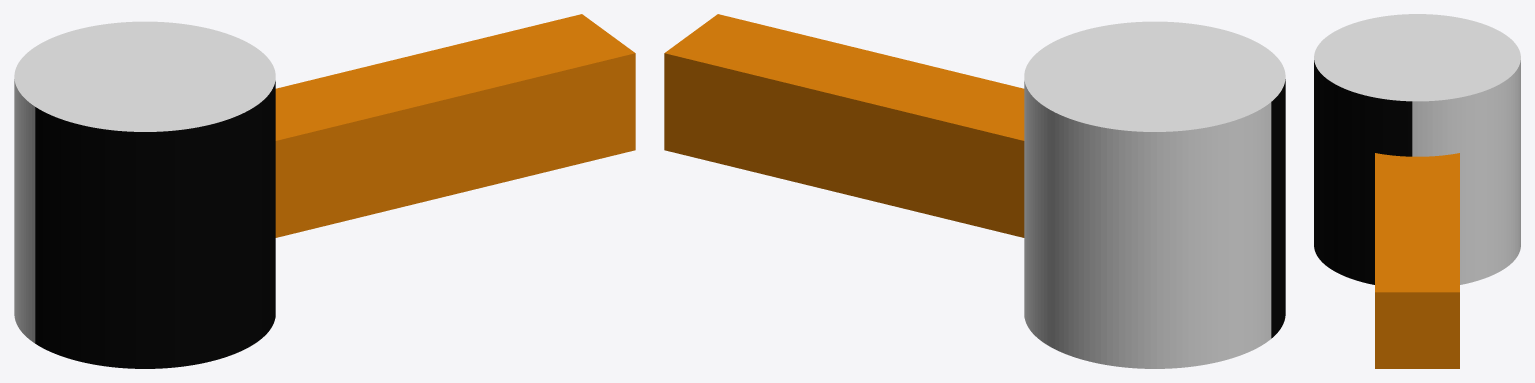
Rendered from antropomorfic_arm_link_2.dae.
3 renders of one model, left to right at view 1: azimuth 30°, elevation 25°; view 2: azimuth 150°, elevation 25°; view 3: azimuth 270°, elevation 25°, orthographic. The views are drawn at different scales.
Visible parts, largest first — view 1: Cube; view 2: Cube; view 3: Cube.
Part boxes in pixels (<box>): Cube: <box>14,14,635,368</box>; Cube: <box>664,14,1285,368</box>; Cube: <box>1314,14,1520,368</box>.
Bounding box in the file's own units: 1.24 × 0.4882 × 0.4882.
